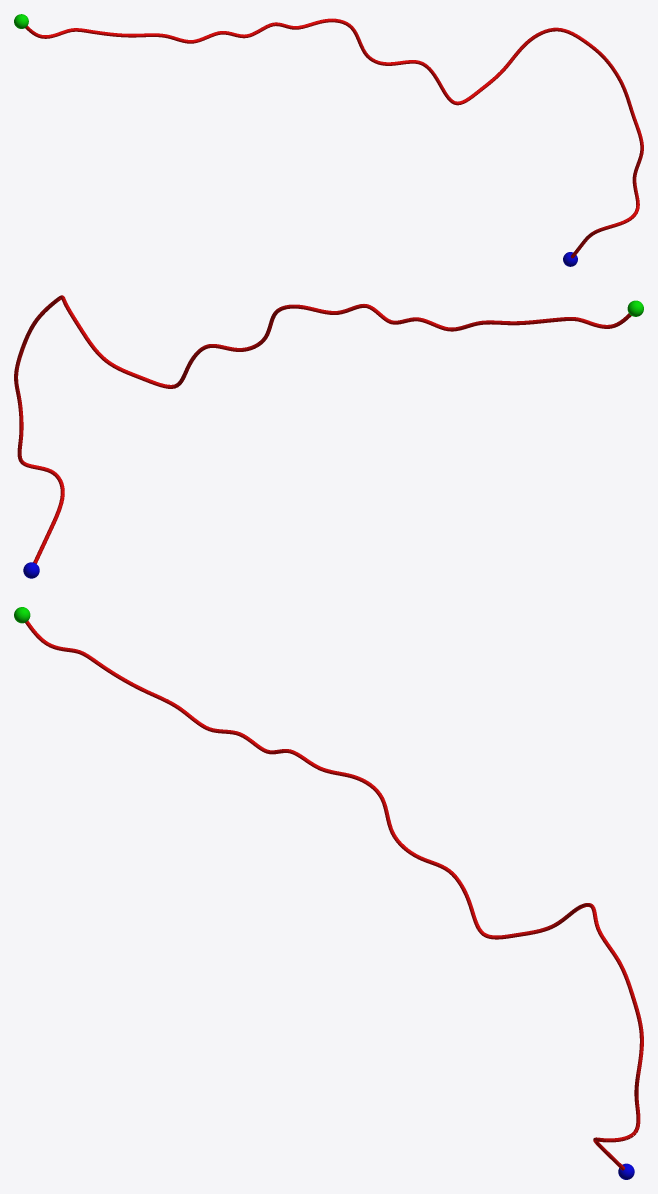
File: paths.obj
The picture shows the model from 3 angles, top to bottom: view 1: azimuth 30°, elevation 25°; view 2: azimuth 150°, elevation 25°; view 3: azimuth 330°, elevation 25°; orthographic projection. The views are drawn at different scales.
Size of the model in its own units: 1.85 by 1.14 by 0.2174.
